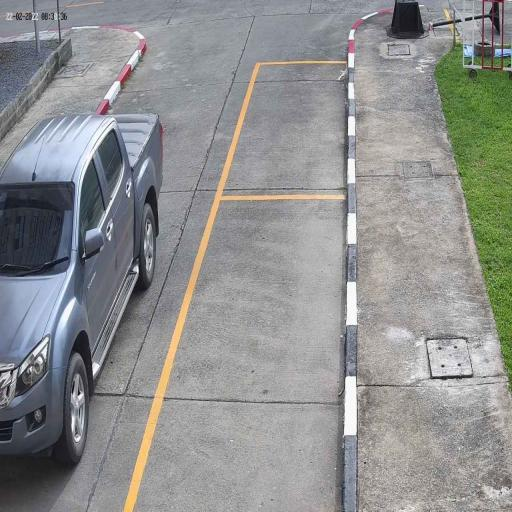car: (0, 111, 165, 469)
